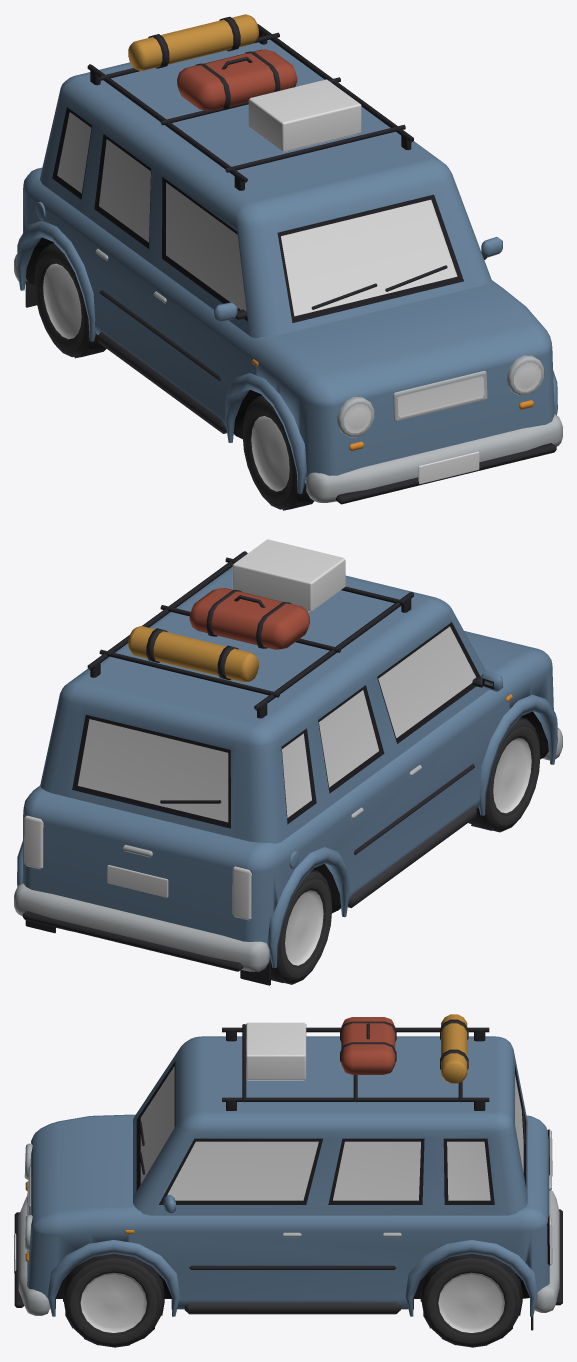
Rendered from Wagon.fbx.
3 views of the same model, one above another, from view 1: azimuth 30°, elevation 25°; view 2: azimuth 150°, elevation 25°; view 3: azimuth 270°, elevation 25° (orthographic). The views are drawn at different scales.
Visible parts, largest first — view 1: Body, Wheel.FR, Wheel.RR; view 2: Body, Wheel.FR, Wheel.RR; view 3: Body, Wheel.RL, Wheel.FL.
Boxes of the visible parts, left/top/right/bottom form: Body: left=14, top=14, right=562, bottom=504; Wheel.FR: left=242, top=395, right=314, bottom=510; Wheel.RR: left=34, top=243, right=106, bottom=358; Body: left=14, top=539, right=562, bottom=985; Wheel.FR: left=468, top=717, right=540, bottom=832; Wheel.RR: left=269, top=869, right=332, bottom=984; Body: left=14, top=1014, right=562, bottom=1330; Wheel.RL: left=420, top=1253, right=522, bottom=1347; Wheel.FL: left=63, top=1253, right=164, bottom=1347.
Bounding box in the file's own units: 1.79 × 1.86 × 3.45.
